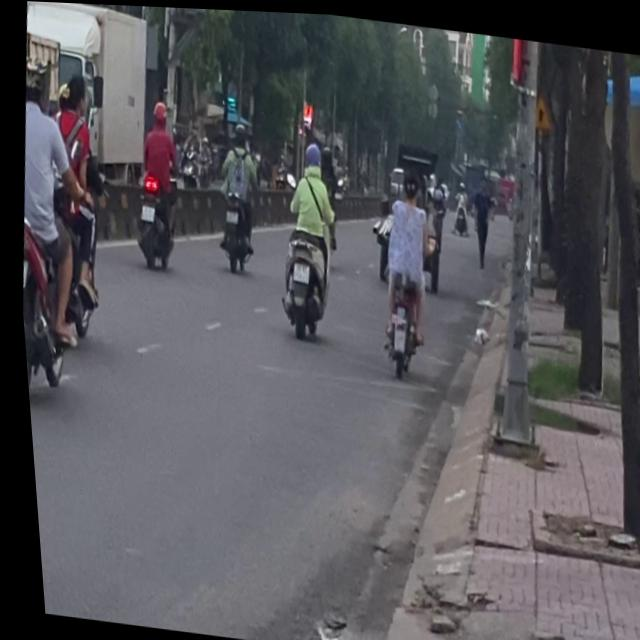helmet: (21, 57, 50, 110), (298, 137, 321, 169), (146, 96, 167, 128)
licenseplate: (3, 52, 98, 407), (364, 159, 442, 381), (262, 132, 345, 338), (121, 94, 188, 271)
motorcyclist: (57, 70, 89, 115), (394, 164, 418, 204)
nohelmet: (287, 260, 304, 280), (136, 202, 152, 220)
